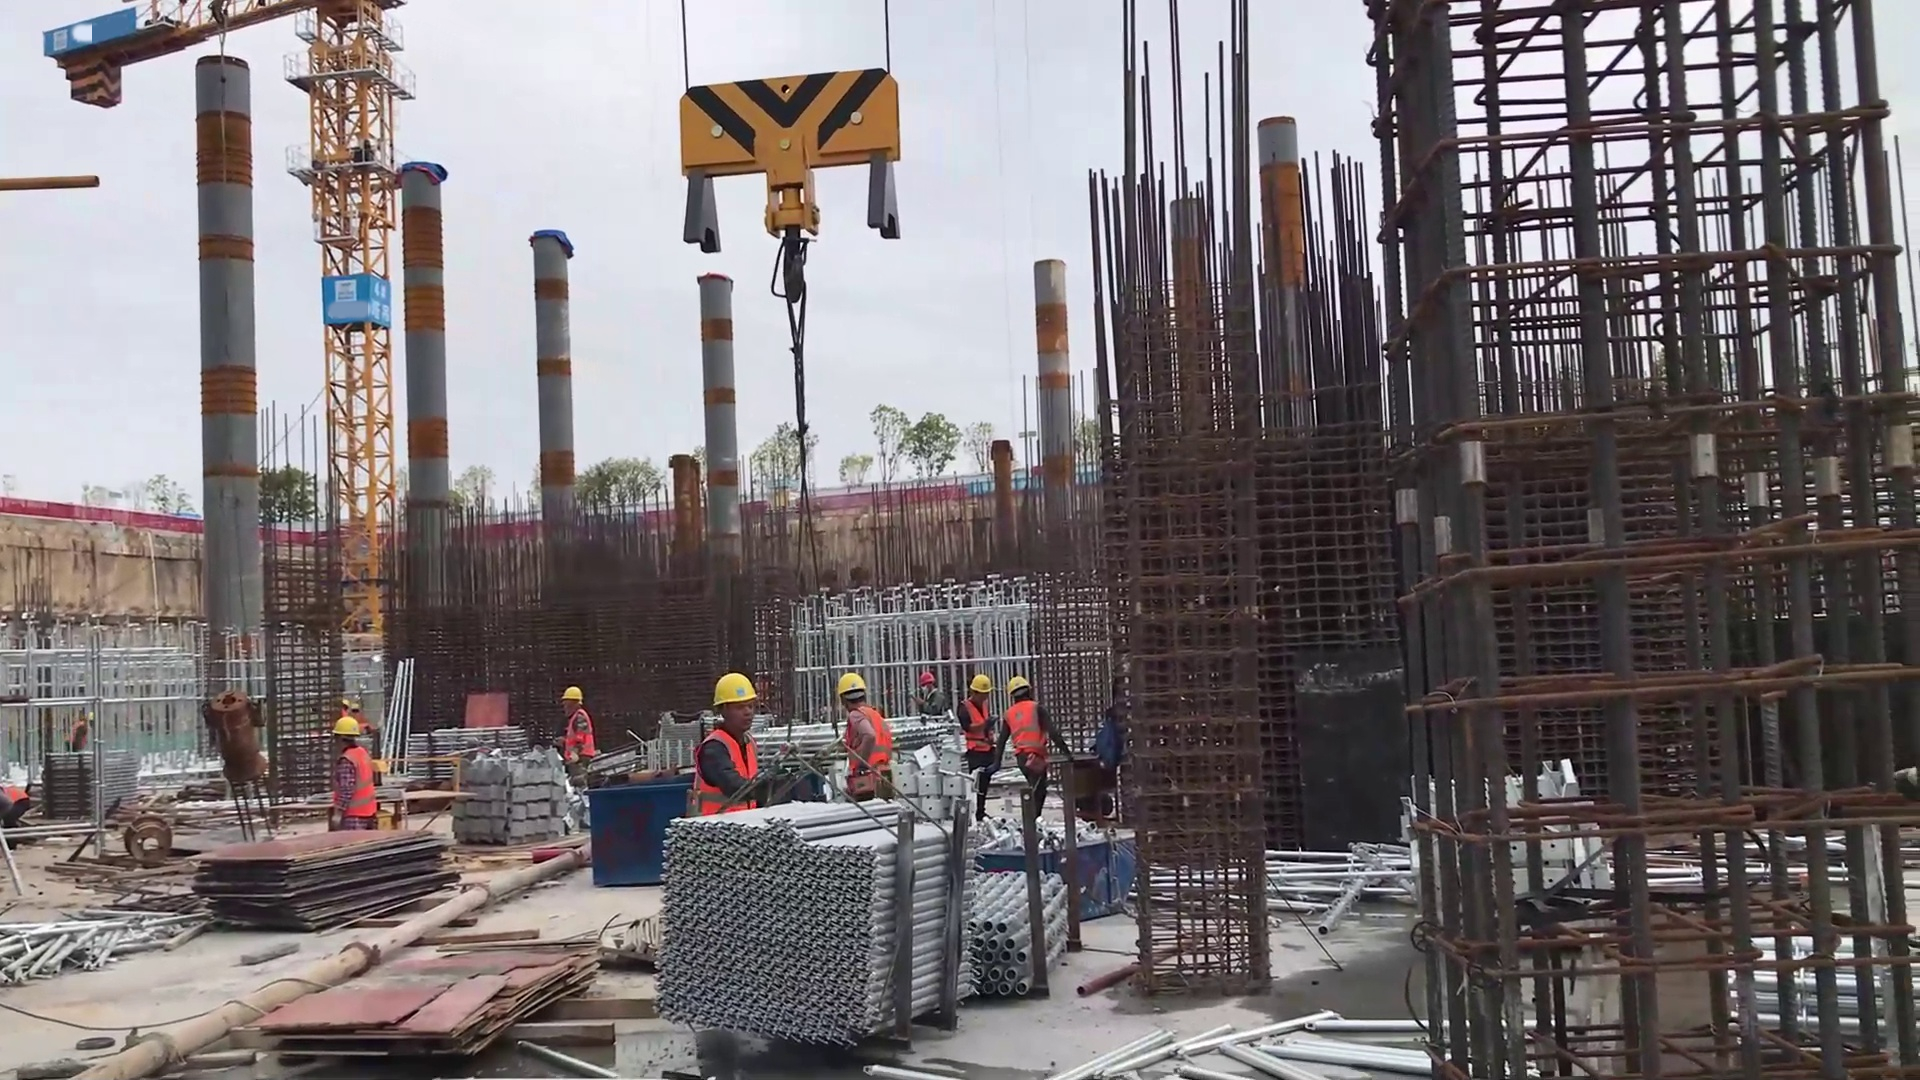board: (266, 951, 624, 1061), (201, 833, 467, 926)
helmet: (963, 673, 1046, 720), (823, 661, 881, 719), (697, 666, 751, 718), (331, 710, 394, 750), (556, 679, 596, 714)
hook: (671, 68, 915, 310)
hopper: (963, 810, 1167, 927)
person: (309, 703, 385, 827), (558, 684, 593, 766)
scaffold: (670, 785, 970, 1043)
